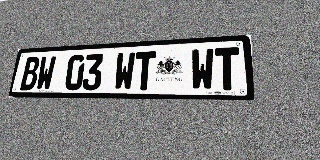0: (64, 54, 86, 90)
3: (82, 54, 104, 90)
B: (20, 57, 41, 90)
T: (215, 47, 240, 90), (133, 51, 156, 90)
W: (190, 48, 214, 90), (113, 52, 136, 90), (35, 56, 56, 90)
